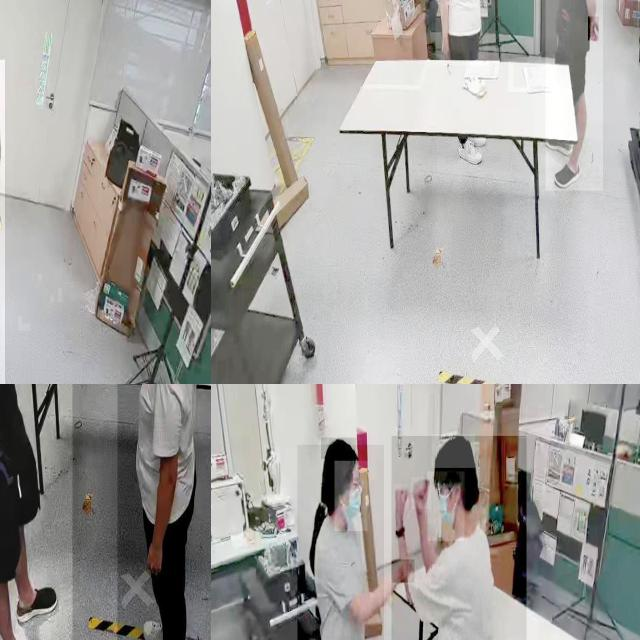face_mask: (428, 471, 464, 541), (334, 461, 368, 531)
hand_noglove: (145, 538, 163, 575), (412, 476, 432, 509), (391, 560, 415, 584), (394, 484, 408, 510), (588, 16, 600, 42), (440, 35, 450, 61)
head_nohelmet: (432, 434, 476, 469), (321, 438, 357, 460)
person: (391, 436, 526, 640), (117, 384, 211, 640), (0, 384, 72, 640), (297, 444, 384, 640), (545, 0, 603, 191), (435, 0, 488, 66)
shoes: (15, 578, 62, 625), (138, 610, 183, 640), (549, 154, 582, 190), (454, 138, 484, 170)
